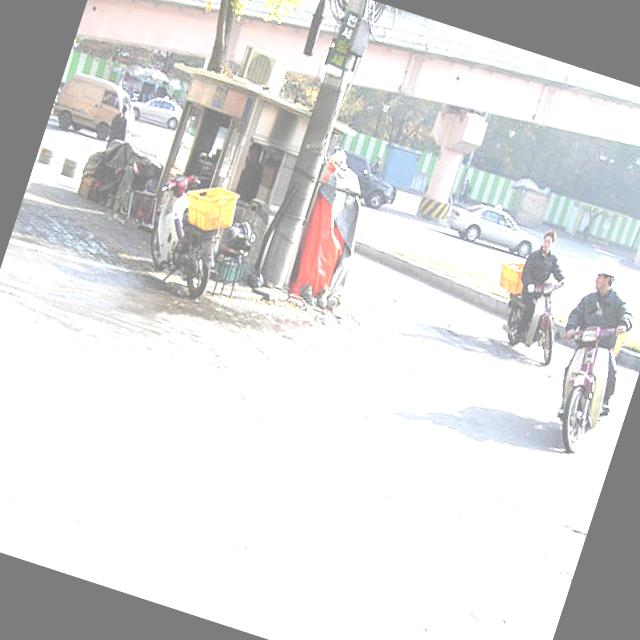Vehicle: (130, 165, 240, 302), (540, 316, 628, 459), (48, 68, 148, 150), (440, 194, 550, 264), (492, 268, 573, 362), (331, 150, 405, 213), (125, 81, 188, 132), (119, 194, 162, 238)
